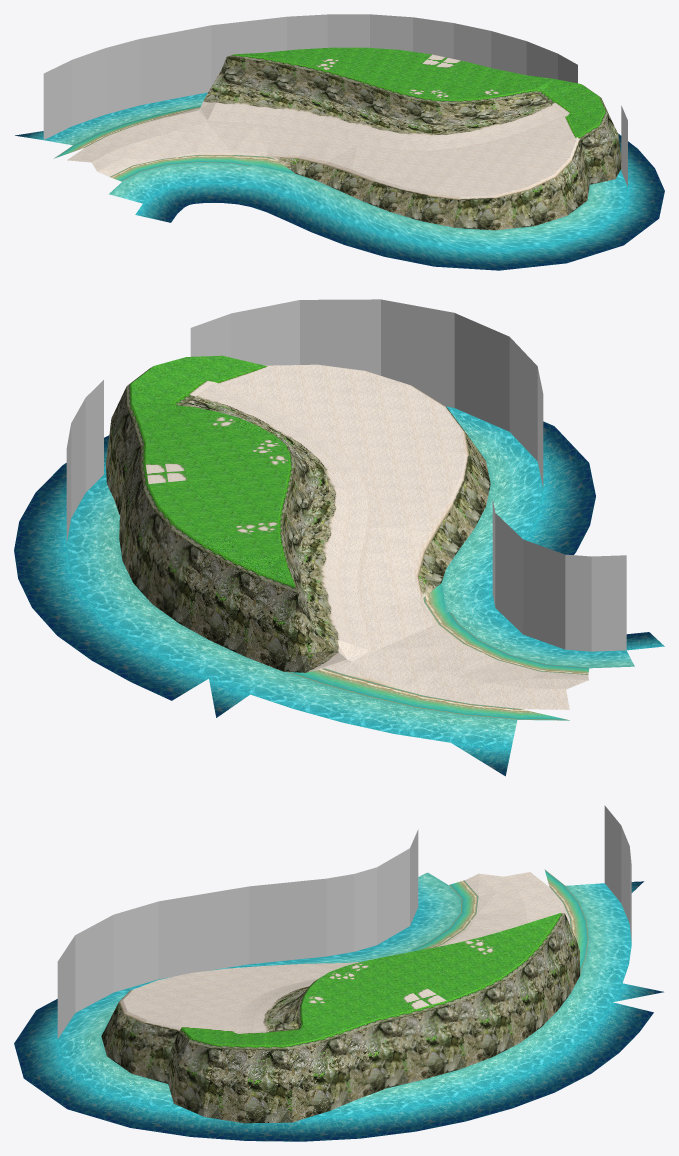
File: emerald-coast-start.glb
3 views of the same model, one above another, from view 1: azimuth 30°, elevation 25°; view 2: azimuth 150°, elevation 25°; view 3: azimuth 270°, elevation 25° (orthographic). The views are drawn at different scales.
Parts seen in each view (by area): view 1: material_0, material_7, material_8, material_9, material_32, material_22, material_58, material_17, material_19, material_173, material_18, material_60 (+3 smaller); view 2: material_0, material_7, material_8, material_22, material_9, material_58, material_32, material_17, material_173, material_19, material_18, material_23 (+5 smaller); view 3: material_22, material_0, material_8, material_9, material_58, material_7, material_173, material_60, material_59, material_32, material_17, material_99 (+2 smaller).
Part boxes in pixels (x1,y1,x2,y2): material_0: [43, 14, 627, 186]; material_7: [67, 108, 576, 196]; material_8: [44, 92, 627, 250]; material_9: [15, 131, 664, 270]; material_32: [204, 57, 551, 133]; material_22: [291, 104, 621, 230]; material_58: [235, 47, 604, 136]; material_17: [197, 108, 566, 152]; material_19: [200, 99, 545, 143]; material_173: [54, 106, 294, 181]; material_18: [229, 102, 559, 143]; material_60: [227, 54, 607, 139]; material_0: [66, 299, 626, 651]; material_7: [225, 364, 588, 709]; material_8: [66, 406, 634, 747]; material_22: [106, 387, 490, 671]; material_9: [14, 421, 664, 776]; material_58: [131, 355, 293, 584]; material_32: [183, 397, 335, 649]; material_17: [205, 382, 376, 661]; material_173: [285, 584, 589, 720]; material_19: [216, 396, 355, 672]; material_18: [196, 389, 351, 632]; material_23: [284, 593, 335, 672]; material_22: [101, 914, 580, 1123]; material_0: [57, 805, 631, 1038]; material_8: [57, 872, 631, 1117]; material_9: [14, 881, 663, 1141]; material_58: [182, 913, 559, 1045]; material_7: [123, 872, 569, 1029]; material_173: [412, 870, 588, 973]; material_60: [179, 929, 554, 1049]; material_59: [188, 913, 564, 1049]; material_32: [267, 986, 308, 1030]; material_17: [233, 976, 321, 1032]; material_99: [398, 988, 446, 1009].
Bounding box in the file's own units: 5.77 × 0.856 × 6.06.
17 materials, 17 textured.
